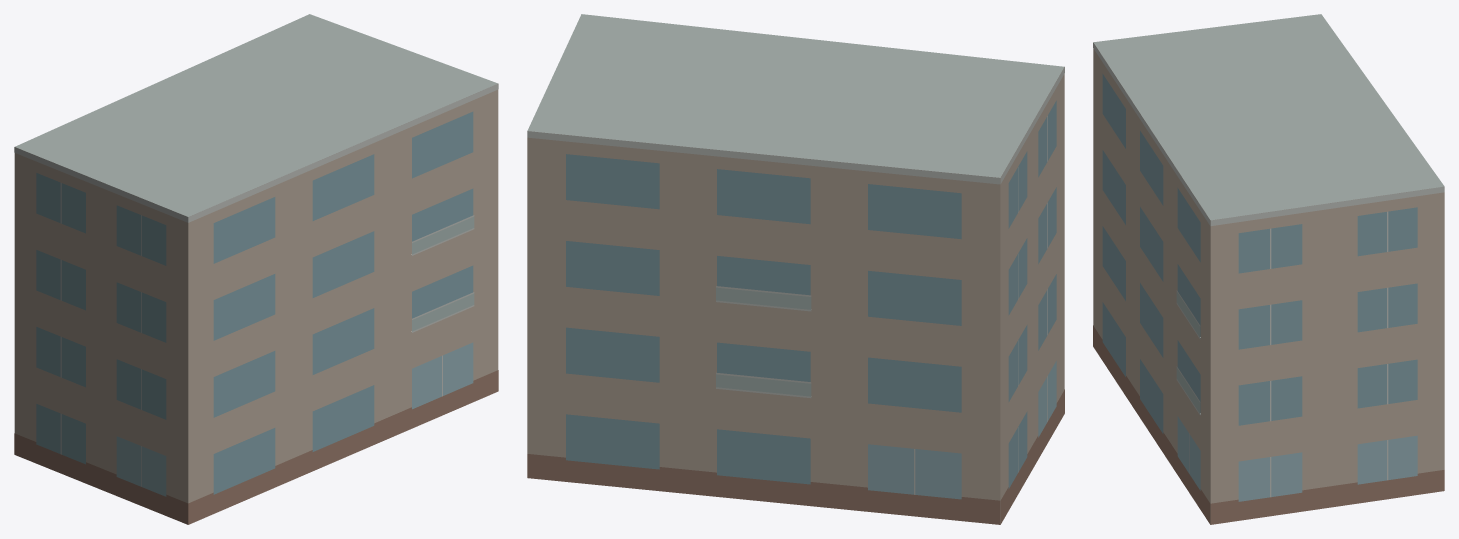
File: survey-upis-32905798.glb
3 views of the same model, side by side, from view 1: azimuth 30°, elevation 25°; view 2: azimuth 150°, elevation 25°; view 3: azimuth 270°, elevation 25° (orthographic). The views are drawn at different scales.
Parts seen in each view (by area): view 1: survey-upis-32905798.tmp; view 2: survey-upis-32905798.tmp; view 3: survey-upis-32905798.tmp.
Boxes of the visible parts, box(x1,y1,x2,y2) form: survey-upis-32905798.tmp: box(14, 14, 498, 524); survey-upis-32905798.tmp: box(527, 14, 1064, 524); survey-upis-32905798.tmp: box(1093, 14, 1444, 524).
Size of the model in its own units: 18.62 by 12.8 by 13.4.
